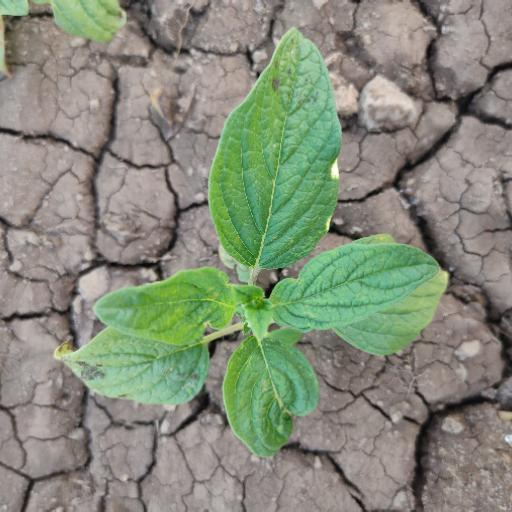crop: (56, 27, 450, 467)
